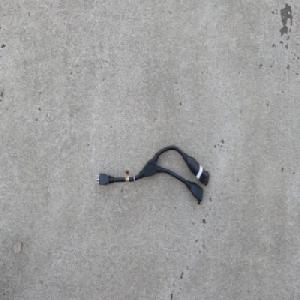Wire: (93, 144, 210, 206)
